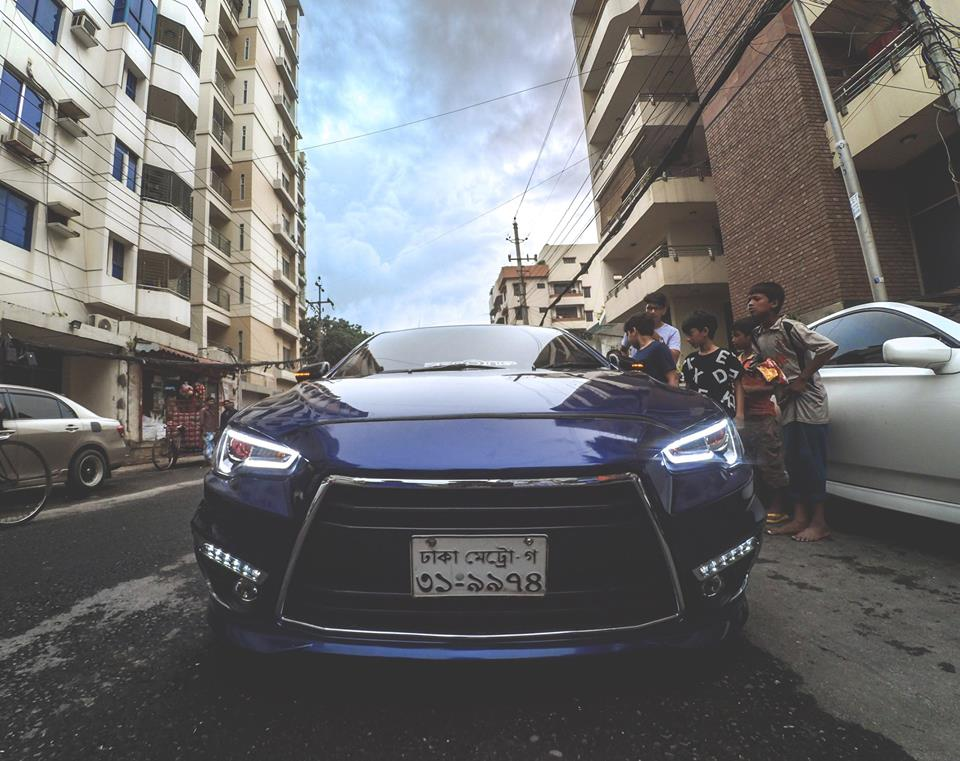registration_plate: (409, 534, 549, 600)
